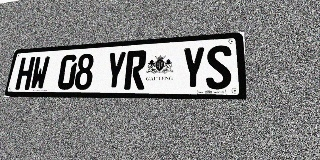0: (56, 54, 78, 90)
8: (73, 53, 96, 90)
H: (15, 57, 35, 90)
R: (124, 50, 147, 90)
S: (206, 45, 232, 89)
W: (29, 56, 50, 90)
Y: (181, 46, 205, 89), (104, 51, 127, 90)
